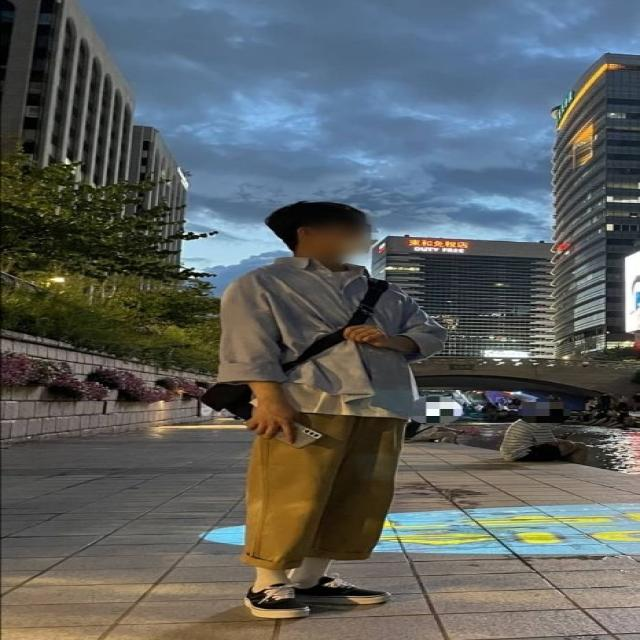cottonpants: (241, 411, 405, 574)
shirt: (215, 252, 445, 415)
